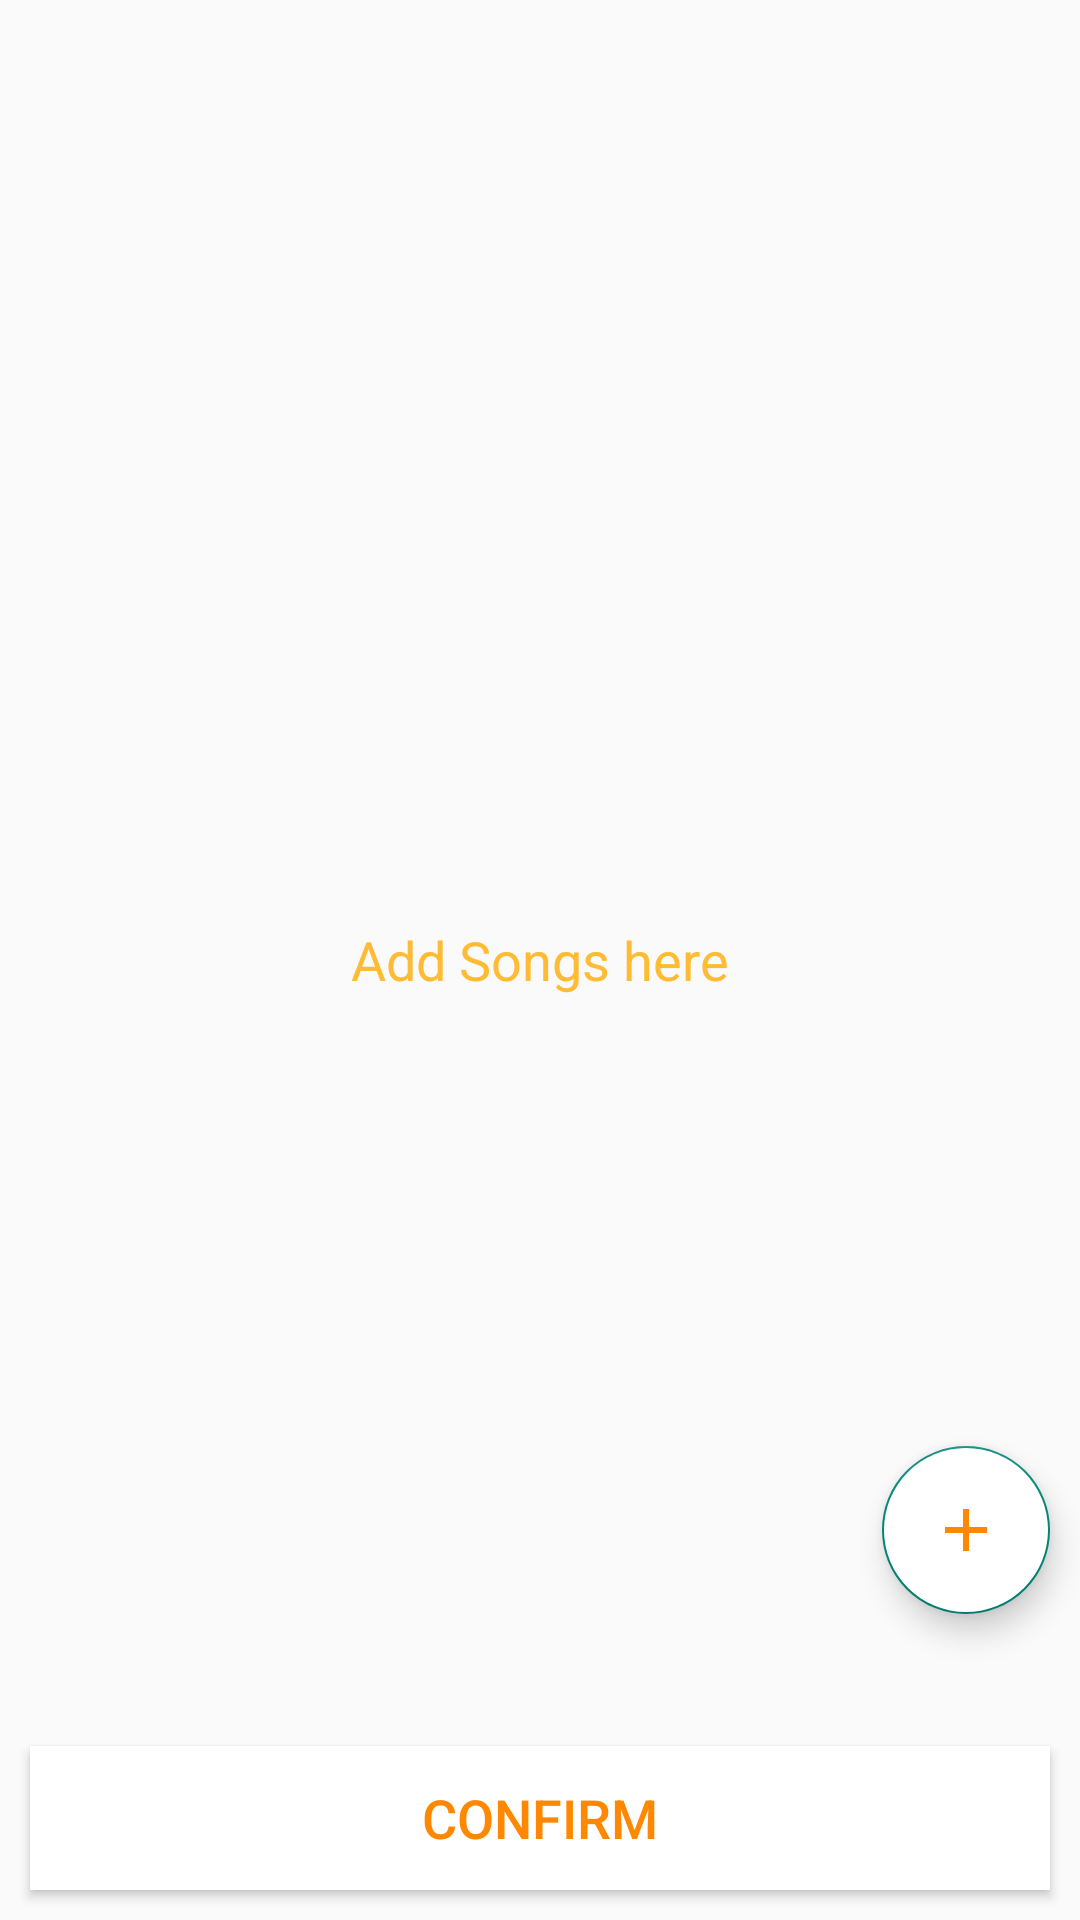

Where to tap for icons on this 1080 x 1920 app screen, as (x=x, y=y):
addsong: (x=966, y=1530)
